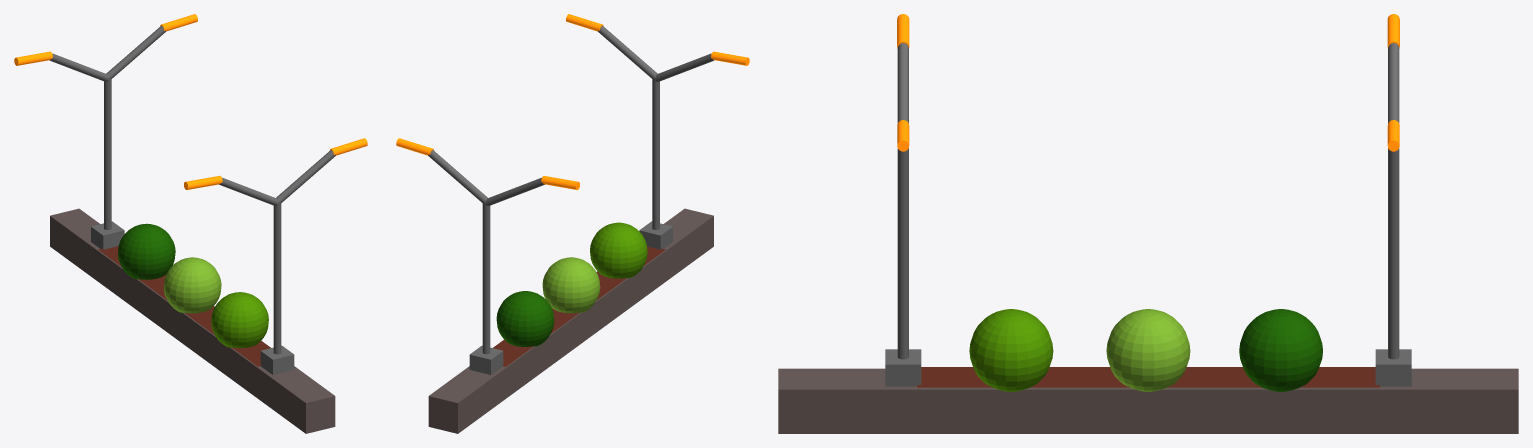
File: divider.fbx
The picture shows the model from 3 angles, left to right: view 1: azimuth 30°, elevation 25°; view 2: azimuth 150°, elevation 25°; view 3: azimuth 270°, elevation 25°; orthographic projection. The views are drawn at different scales.
Parts seen in each view (by area): view 1: Cube.023, Sphere, Sphere.002, Sphere.001, Cylinder.010, Plane.087, Cylinder.005, Cube.025, Cube.024, Cylinder.006, Cylinder.011, Cylinder.007 (+3 smaller); view 2: Cube.023, Sphere, Sphere.002, Sphere.001, Cylinder.005, Plane.087, Cylinder.010, Cube.024, Cube.025, Cylinder.011, Cylinder.006, Cylinder.007 (+3 smaller); view 3: Cube.023, Plane.087, Sphere.001, Sphere.002, Sphere, Cylinder.005, Cylinder.010, Cube.024, Cube.025, Cylinder.007, Cylinder.012.
Boxes of the visible parts, left/top/right/bottom form: Cube.023: left=50, top=208, right=335, bottom=433; Sphere: left=211, top=292, right=268, bottom=348; Sphere.002: left=163, top=257, right=221, bottom=313; Sphere.001: left=118, top=223, right=175, bottom=279; Cylinder.010: left=273, top=202, right=281, bottom=354; Plane.087: left=98, top=246, right=270, bottom=366; Cylinder.005: left=104, top=78, right=111, bottom=229; Cube.025: left=260, top=345, right=294, bottom=374; Cube.024: left=91, top=221, right=124, bottom=249; Cylinder.006: left=106, top=25, right=166, bottom=80; Cylinder.011: left=276, top=150, right=335, bottom=204; Cylinder.007: left=49, top=53, right=108, bottom=81; Cube.023: left=428, top=208, right=713, bottom=433; Sphere: left=590, top=222, right=647, bottom=278; Sphere.002: left=542, top=257, right=600, bottom=313; Sphere.001: left=496, top=291, right=554, bottom=346; Cylinder.005: left=482, top=202, right=490, bottom=354; Plane.087: left=493, top=246, right=665, bottom=366; Cylinder.010: left=652, top=78, right=659, bottom=229; Cube.024: left=469, top=345, right=503, bottom=374; Cube.025: left=639, top=221, right=672, bottom=249; Cylinder.011: left=597, top=25, right=657, bottom=80; Cylinder.006: left=428, top=150, right=487, bottom=204; Cylinder.007: left=485, top=177, right=544, bottom=205; Cube.023: left=778, top=368, right=1518, bottom=433; Plane.087: left=917, top=367, right=1379, bottom=387; Sphere.001: left=1239, top=309, right=1322, bottom=391; Sphere.002: left=1106, top=309, right=1190, bottom=391; Sphere: left=969, top=309, right=1053, bottom=391; Cylinder.005: left=1388, top=148, right=1399, bottom=359; Cylinder.010: left=897, top=148, right=908, bottom=359; Cube.024: left=1375, top=349, right=1411, bottom=386; Cube.025: left=885, top=349, right=921, bottom=386; Cylinder.007: left=1388, top=43, right=1399, bottom=123; Cylinder.012: left=897, top=43, right=908, bottom=123.
Size of the model in its own units: 1226 by 1553 by 3020.
